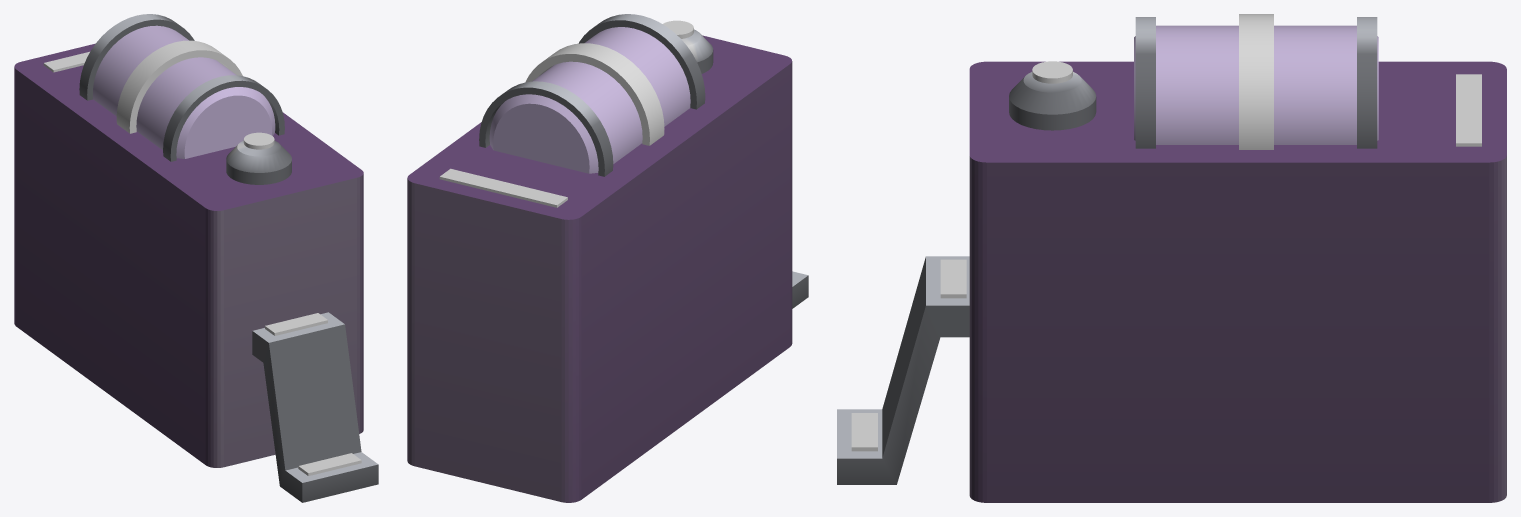
Rendered from pin_high_voltage_tube.glb.
3 renders of one model, left to right at view 1: azimuth 30°, elevation 25°; view 2: azimuth 150°, elevation 25°; view 3: azimuth 270°, elevation 25°, orthographic. The views are drawn at different scales.
Parts seen in each view (by area): view 1: Korpus, Glas, Licht, Seltenheit; view 2: Korpus, Glas, Licht; view 3: Korpus, Glas, Licht, Seltenheit.
Part boxes in pixels (x1,y1,x2,y2): Korpus: (14, 14, 378, 502); Glas: (93, 25, 275, 158); Licht: (43, 40, 361, 475); Seltenheit: (265, 313, 327, 335); Korpus: (407, 14, 808, 502); Glas: (489, 27, 690, 173); Licht: (439, 20, 693, 207); Korpus: (837, 17, 1506, 502); Glas: (1134, 25, 1378, 144); Licht: (851, 14, 1481, 451); Seltenheit: (940, 259, 966, 298).
Size of the model in its own units: 0.82 by 1.66 by 2.3.
